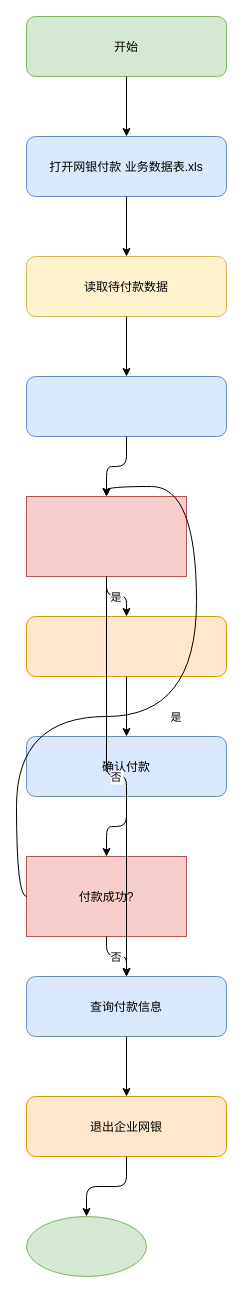
Some shapes in this 243 by 1293 pixel diagram are drawn without their labels. Here are the shapes that lost their labels. From the top down, the centre of each, then its label:
point 126,406: 登录工行企业网银
point 106,536: 还有未付款项?
point 126,646: 填写付款信息 + U盾密码
point 86,1246: 结束
